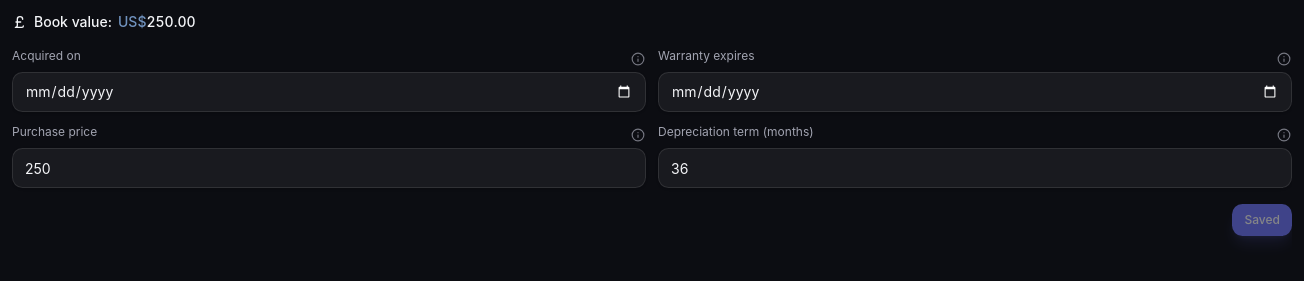
Test case: AssetEditor › refuses to save a negative price instead of erasing the stored one (issue #675)
Replace the text in the number field with test id "asset-purchase-price" with "-250" at (329, 168), box x1=12 y1=148 x2=646 y2=188
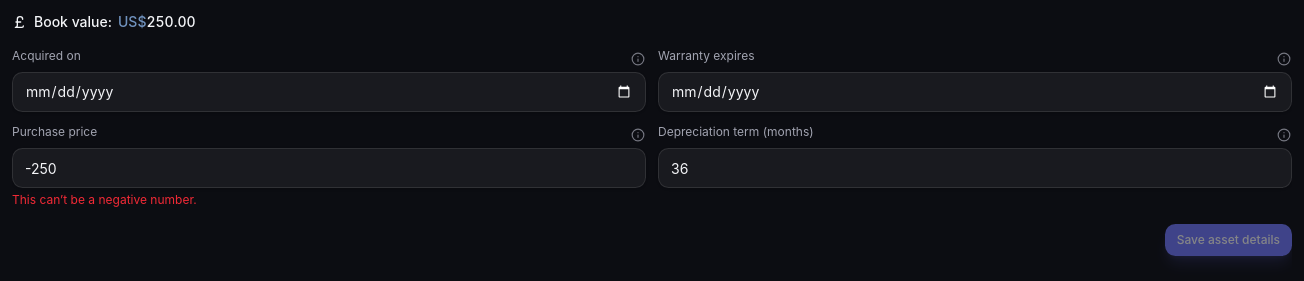
Expected: the button with test id "save-asset" is disabled, x1=1165 y1=224 x2=1292 y2=256
Expected: the message shows "negative", x1=12 y1=192 x2=197 y2=207
